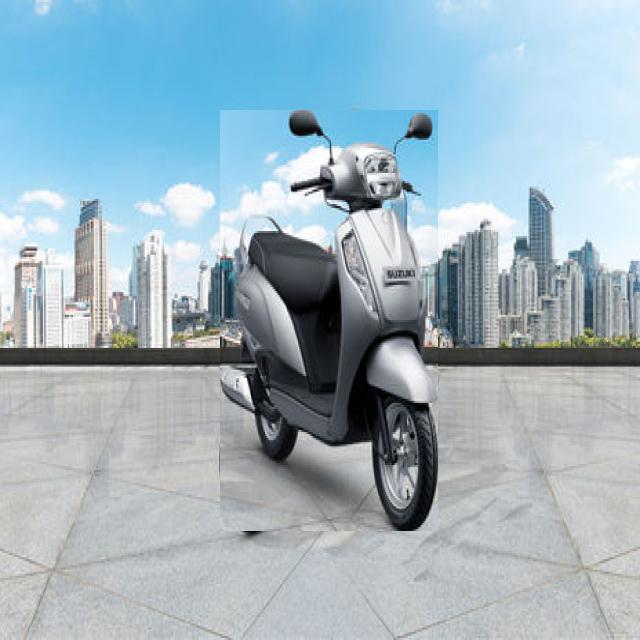motorcycle: (220, 111, 438, 531)
